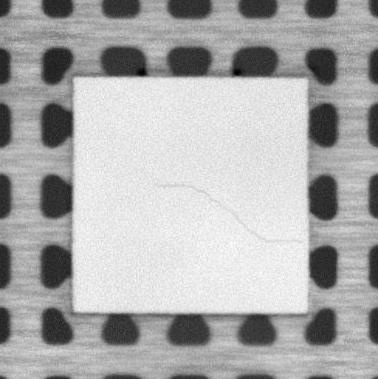DIE_CRACK: (163, 181, 303, 245)
